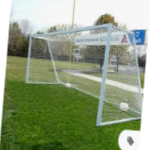goals: (23, 22, 142, 126)
